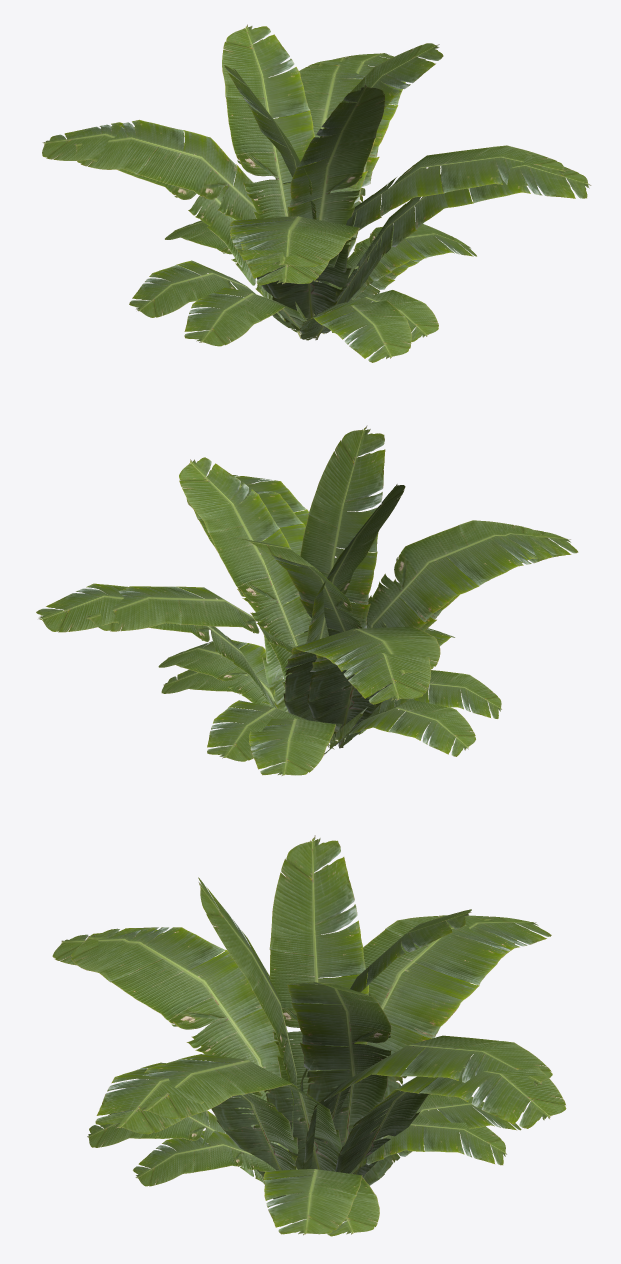
File: tropical_banana.glb
3 renders of one model, top to bottom at view 1: azimuth 30°, elevation 25°; view 2: azimuth 150°, elevation 25°; view 3: azimuth 270°, elevation 25°, orthographic. The views are drawn at different scales.
Visible parts, largest first — view 1: Plant alpha 6; view 2: Plant alpha 6; view 3: Plant alpha 6.
Boxes of the visible parts, x1,y1,x2,y2 form: Plant alpha 6: (42,24,591,362); Plant alpha 6: (36,425,578,775); Plant alpha 6: (52,835,566,1236).
Size of the model in its own units: 2.73 by 1.72 by 2.73.
1 material, 1 textured.
